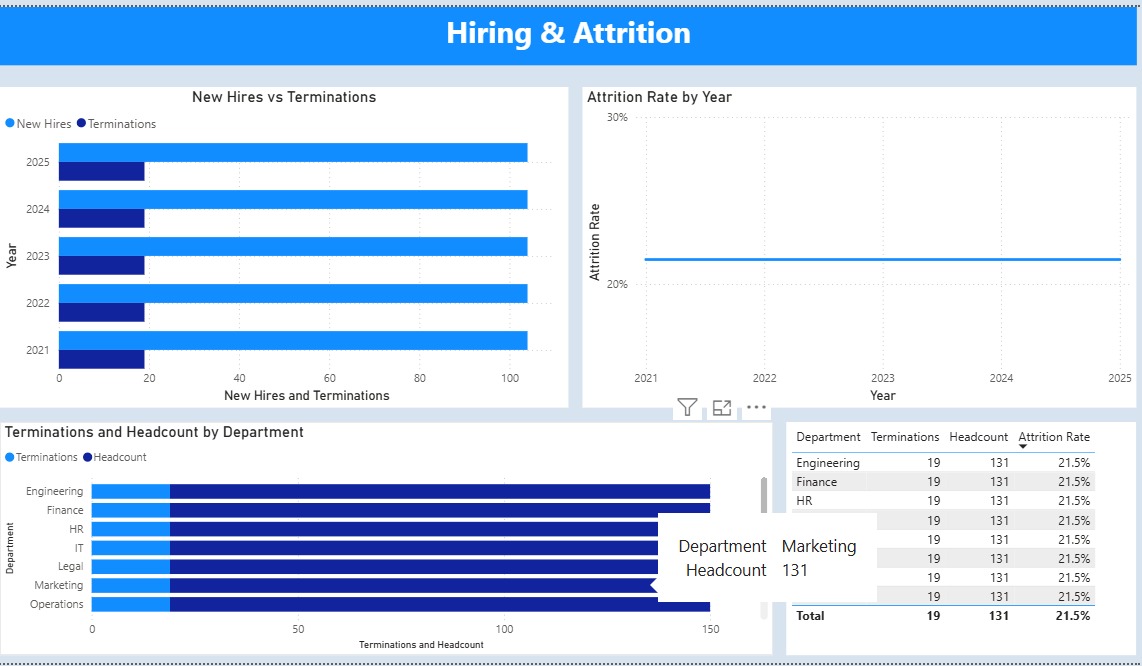

The dashboard page shown, as its layout file describes it:
{"tool":"powerbi","page":{"name":"Hiring & Attrition","canvas":[1280,720],"ordinal":1},"visuals":[{"type":"textbox","box":[16,0,1248,64],"z":0},{"type":"clusteredBarChart","title":"New Hires vs Terminations","fields":{"Y":["dim_employee.New Hires","dim_employee.Terminations"],"Category":["dim_month.MonthStart.Variation.Date Hierarchy.Year","dim_month.MonthStart.Variation.Date Hierarchy.Quarter","dim_month.MonthStart.Variation.Date Hierarchy.Month","dim_month.MonthStart.Variation.Date Hierarchy.Day"]},"box":[16,87.4,624,352],"z":1000},{"type":"lineChart","fields":{"Category":["dim_month.MonthStart.Variation.Date Hierarchy.Year","dim_month.MonthStart.Variation.Date Hierarchy.Quarter","dim_month.MonthStart.Variation.Date Hierarchy.Month","dim_month.MonthStart.Variation.Date Hierarchy.Day"],"Y":["dim_employee.Attrition Rate"]},"box":[656,87.4,608,352],"z":2000},{"type":"barChart","fields":{"Category":["dim_employee.Department"],"Y":["dim_employee.Terminations","dim_employee.Headcount"]},"box":[16,455.4,848,256],"z":3000},{"type":"tableEx","fields":{"Values":["dim_employee.Department","dim_employee.Terminations","dim_employee.Headcount","dim_employee.Attrition Rate"]},"box":[880,455.4,384,256],"z":4000}]}

Visuals, with their boxes on the page's 1280x720 design canvas (x1, y1, x2, y2). These are canvas units, not pixel positions in the 1142x666 screenshot, which may show the page scaled, cropped or inside an application window:
textbox: <region>16, 0, 1264, 64</region>
"New Hires vs Terminations" clusteredBarChart: <region>16, 87, 640, 439</region>
lineChart - dim_month.MonthStart.Variation.Date Hierarchy.Year x dim_month.MonthStart.Variation.Date Hierarchy.Quarter: <region>656, 87, 1264, 439</region>
barChart - dim_employee.Department x dim_employee.Terminations: <region>16, 455, 864, 711</region>
tableEx - dim_employee.Department x dim_employee.Terminations: <region>880, 455, 1264, 711</region>
